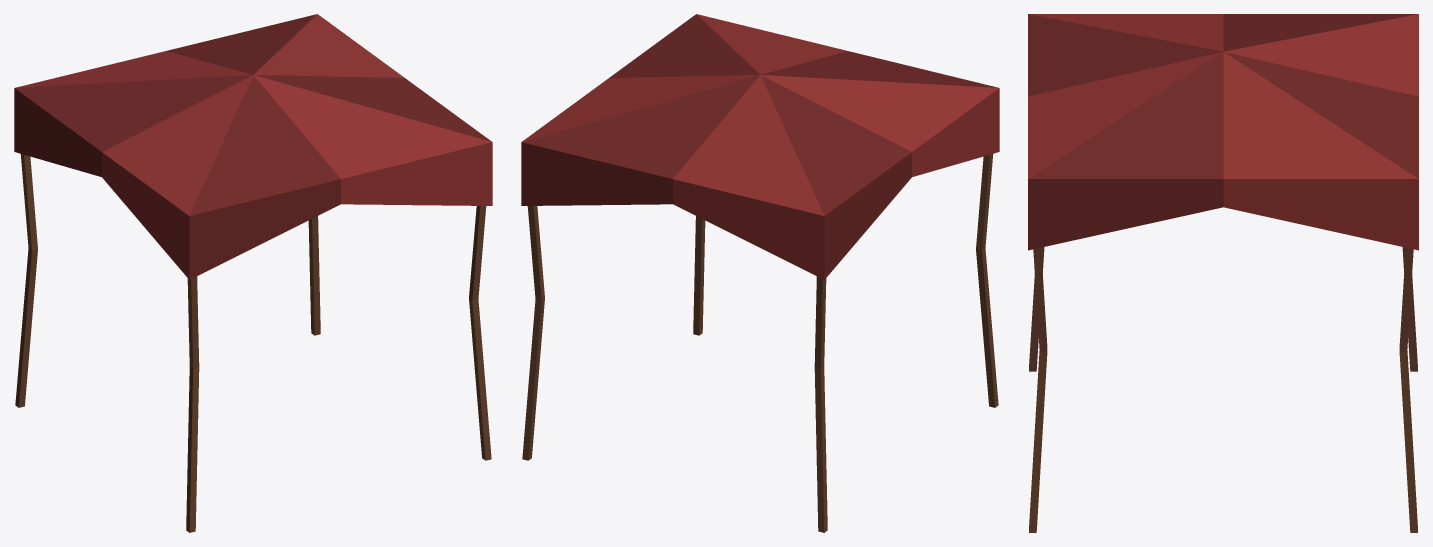
Rendered from Tent_7_Red.fbx.
The picture shows the model from 3 angles, left to right: view 1: azimuth 30°, elevation 25°; view 2: azimuth 150°, elevation 25°; view 3: azimuth 270°, elevation 25°; orthographic projection. The views are drawn at different scales.
Visible parts, largest first — view 1: Tent_7_Red; view 2: Tent_7_Red; view 3: Tent_7_Red.
Part boxes in pixels (<box>): Tent_7_Red: <box>14,14,492,532</box>; Tent_7_Red: <box>521,14,999,532</box>; Tent_7_Red: <box>1028,14,1418,532</box>.
Size of the model in its own units: 500 by 563 by 500.
